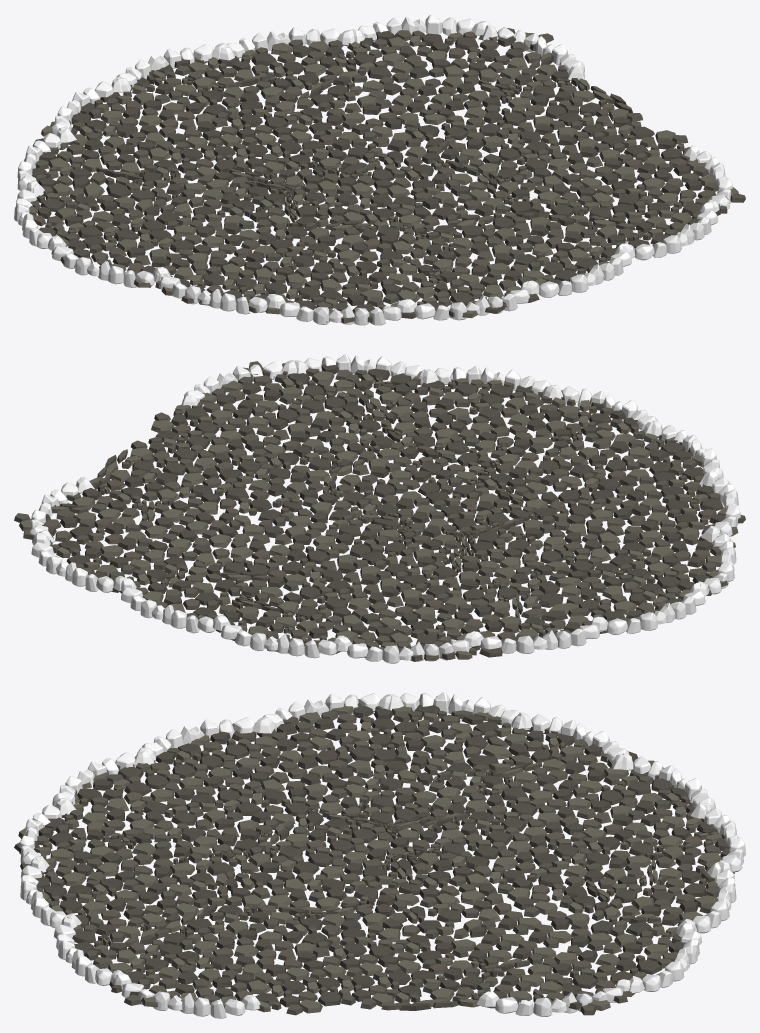
3 renders of one model, top to bottom at view 1: azimuth 30°, elevation 25°; view 2: azimuth 150°, elevation 25°; view 3: azimuth 270°, elevation 25°, orthographic. The views are drawn at different scales.
Visible parts, largest first — view 1: polySurface1515_lambert1_0.004, polySurface1515_lambert1_0.005, polySurface1515_lambert1_0.002, polySurface1515_lambert1_0.012, polySurface1515_lambert1_0.006, polySurface1515_lambert1_0.011, polySurface1515_lambert1_0.001, polySurface1515_lambert1_0.003, polySurface1515_lambert1_0.010, polySurface1515_lambert1_0.013, polySurface1515_lambert1_0.008, polySurface1515_lambert1_0.009 (+128 smaller); view 2: polySurface1515_lambert1_0.008, polySurface1515_lambert1_0.010, polySurface1515_lambert1_0.009, polySurface1515_lambert1_0.012, polySurface1515_lambert1_0.007, polySurface1515_lambert1_0.011, polySurface1515_lambert1_0.002, polySurface1515_lambert1_0.001, polySurface1515_lambert1_0.003, polySurface1515_lambert1_0.014, polySurface1515_lambert1_0.005, polySurface1515_lambert1_0.004 (+129 smaller); view 3: polySurface1515_lambert1_0.014, polySurface1515_lambert1_0.013, polySurface1515_lambert1_0.005, polySurface1515_lambert1_0.007, polySurface1515_lambert1_0.012, polySurface1515_lambert1_0.008, polySurface1515_lambert1_0.001, polySurface1515_lambert1_0.009, polySurface1515_lambert1_0.002, polySurface1515_lambert1_0.004, polySurface1515_lambert1_0.006, polySurface1515_lambert1_0.011 (+137 smaller).
Boxes of the visible parts, <box> form: polySurface1515_lambert1_0.004: <box>276,294,411,325</box>; polySurface1515_lambert1_0.005: <box>152,267,280,314</box>; polySurface1515_lambert1_0.002: <box>523,243,631,297</box>; polySurface1515_lambert1_0.012: <box>351,14,490,43</box>; polySurface1515_lambert1_0.006: <box>47,237,164,287</box>; polySurface1515_lambert1_0.011: <box>216,27,354,60</box>; polySurface1515_lambert1_0.001: <box>621,202,718,260</box>; polySurface1515_lambert1_0.003: <box>403,281,533,320</box>; polySurface1515_lambert1_0.010: <box>116,43,229,92</box>; polySurface1515_lambert1_0.013: <box>482,25,585,80</box>; polySurface1515_lambert1_0.008: <box>17,126,76,191</box>; polySurface1515_lambert1_0.009: <box>51,76,122,135</box>; polySurface1515_lambert1_0.008: <box>469,616,607,653</box>; polySurface1515_lambert1_0.010: <box>213,616,347,658</box>; polySurface1515_lambert1_0.009: <box>333,632,478,663</box>; polySurface1515_lambert1_0.012: <box>31,532,123,592</box>; polySurface1515_lambert1_0.007: <box>595,582,705,634</box>; polySurface1515_lambert1_0.011: <box>121,578,225,633</box>; polySurface1515_lambert1_0.002: <box>422,366,560,397</box>; polySurface1515_lambert1_0.001: <box>294,354,432,383</box>; polySurface1515_lambert1_0.003: <box>548,385,658,434</box>; polySurface1515_lambert1_0.014: <box>181,360,296,408</box>; polySurface1515_lambert1_0.005: <box>701,470,740,542</box>; polySurface1515_lambert1_0.004: <box>651,420,723,485</box>; polySurface1515_lambert1_0.014: <box>112,973,260,1018</box>; polySurface1515_lambert1_0.013: <box>476,979,630,1016</box>; polySurface1515_lambert1_0.005: <box>138,717,275,760</box>; polySurface1515_lambert1_0.007: <box>388,692,529,730</box>; polySurface1515_lambert1_0.012: <box>629,922,702,993</box>; polySurface1515_lambert1_0.008: <box>516,712,629,769</box>; polySurface1515_lambert1_0.001: <box>54,914,123,985</box>; polySurface1515_lambert1_0.009: <box>620,753,715,812</box>; polySurface1515_lambert1_0.002: <box>20,856,81,928</box>; polySurface1515_lambert1_0.004: <box>52,750,154,806</box>; polySurface1515_lambert1_0.006: <box>256,693,395,733</box>; polySurface1515_lambert1_0.011: <box>677,862,736,933</box>.
Size of the model in its own units: 30.82 by 1.03 by 30.35.
Materials: 3 (2 with a texture image).
